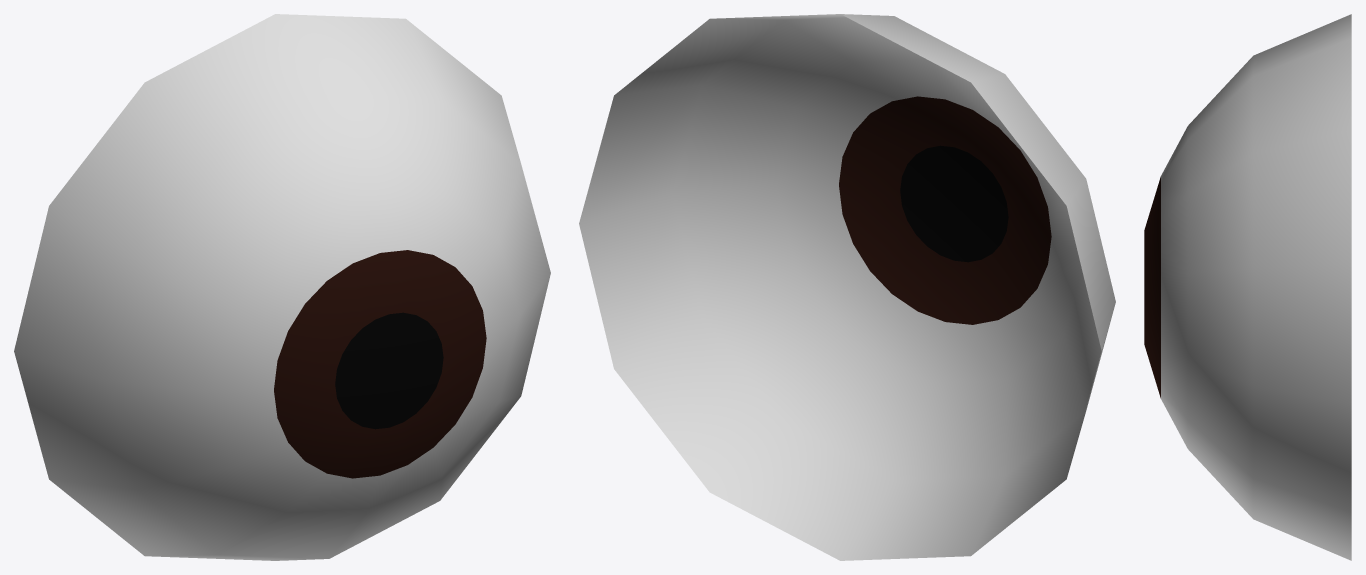
Rendered from eye.glb.
3 renders of one model, left to right at view 1: azimuth 30°, elevation 25°; view 2: azimuth 150°, elevation 25°; view 3: azimuth 270°, elevation 25°, orthographic. The views are drawn at different scales.
Parts seen in each view (by area): view 1: Sphere; view 2: Sphere; view 3: Sphere.
Part boxes in pixels (x1=…): Sphere: x1=14, y1=14, x2=550, y2=560; Sphere: x1=579, y1=14, x2=1115, y2=560; Sphere: x1=1144, y1=14, x2=1351, y2=560.
Size of the model in its own units: 0.094 by 0.094 by 0.0355.
